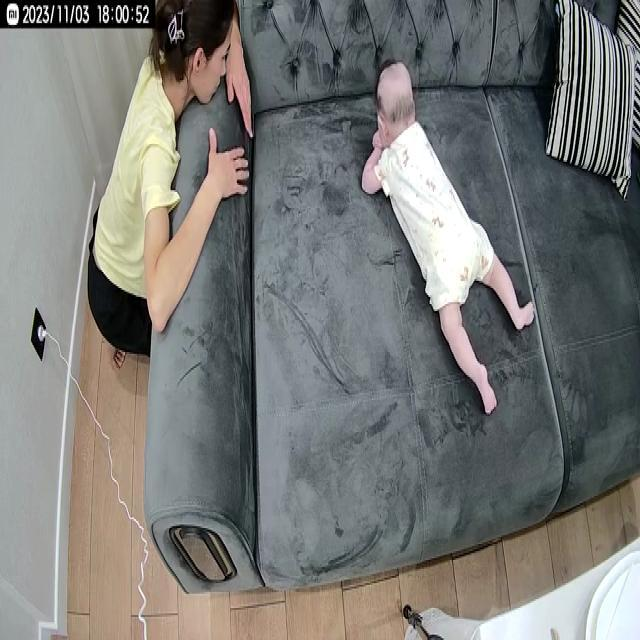baby: (359, 58, 536, 414)
